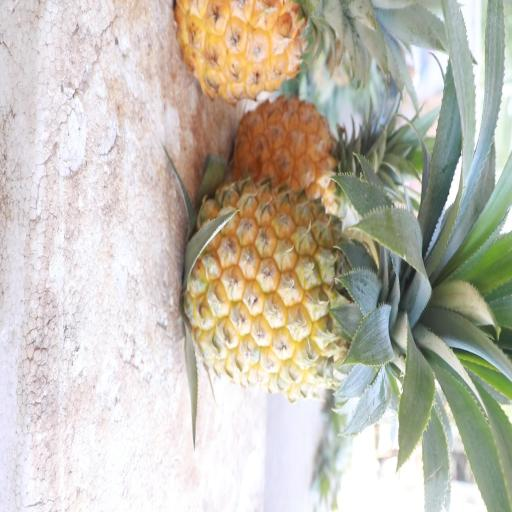Pineapple - v8 v1: (178, 178, 416, 404), (171, 0, 364, 108), (231, 92, 370, 233), (244, 98, 244, 99)
